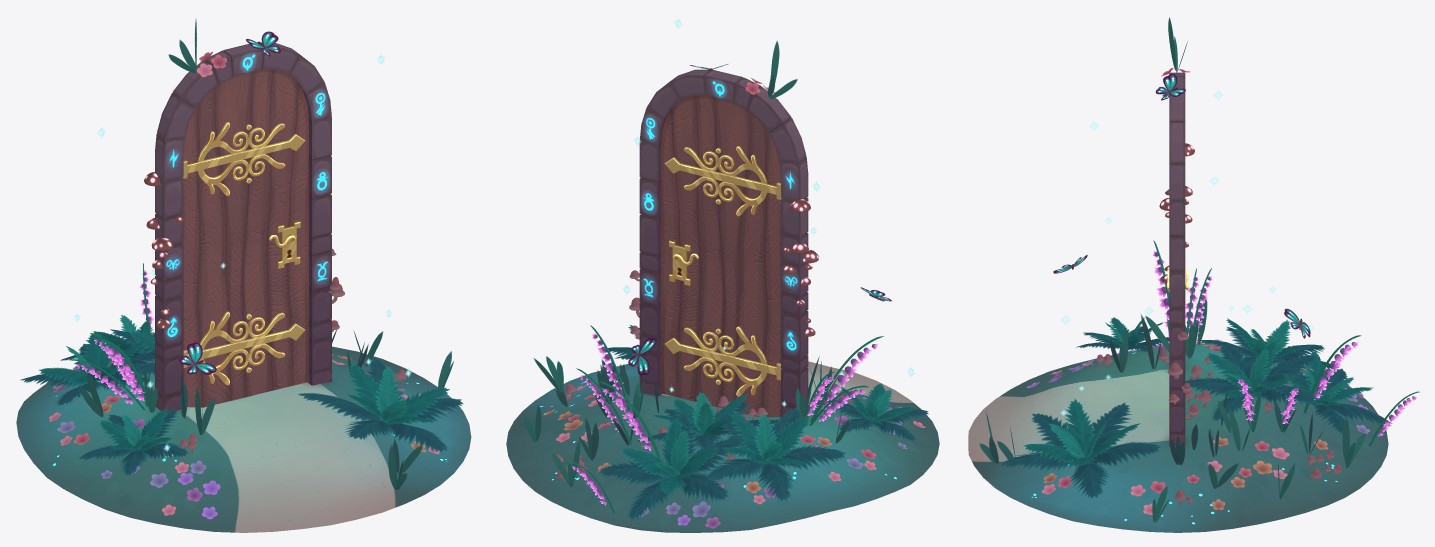
The model's file is door.glb.
3 renders of one model, left to right at view 1: azimuth 30°, elevation 25°; view 2: azimuth 150°, elevation 25°; view 3: azimuth 270°, elevation 25°, orthographic. The views are drawn at different scales.
Parts seen in each view (by area): view 1: main_group2_door, pDisc1, main_group2_detail; view 2: main_group2_door, main_group2_detail, pDisc1; view 3: pDisc1, main_group2_detail, main_group2_door.
Boxes of the visible parts, left/top/right/bottom form: main_group2_door: left=155, top=42, right=331, bottom=411; pDisc1: left=16, top=346, right=471, bottom=532; main_group2_detail: left=20, top=19, right=463, bottom=519; main_group2_door: left=639, top=69, right=808, bottom=417; main_group2_detail: left=523, top=19, right=928, bottom=528; pDisc1: left=506, top=361, right=939, bottom=532; pDisc1: left=968, top=343, right=1388, bottom=532; main_group2_detail: left=979, top=17, right=1419, bottom=522; main_group2_door: left=1167, top=72, right=1188, bottom=446.
Bounding box in the file's own units: 0.0501 × 0.0517 × 0.0522.
3 materials, 3 textured.
